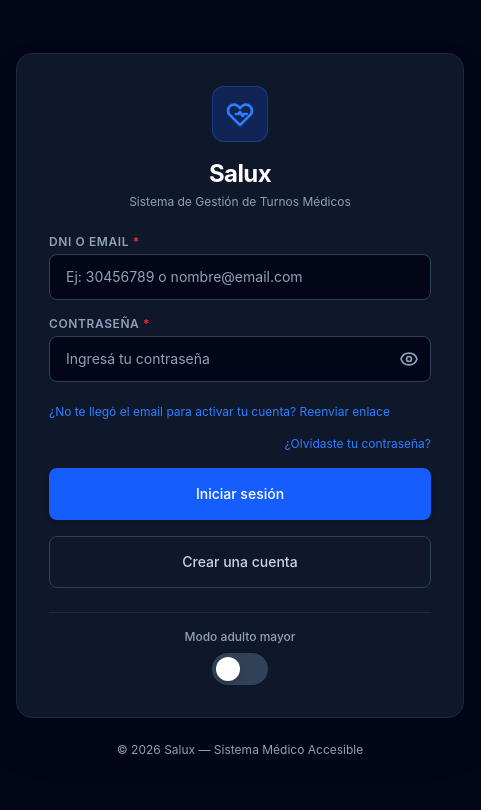
Test: login › con verificación activa permite reenviar el enlace, pidiendo antes el email
The image size is (481, 810).
expect the button "Iniciar sesión" is shown: met, box [49,468,431,520]
Step 1. Click the button "Reenviar enlace" → {"x": 219, "y": 412}, box [49,404,390,420]
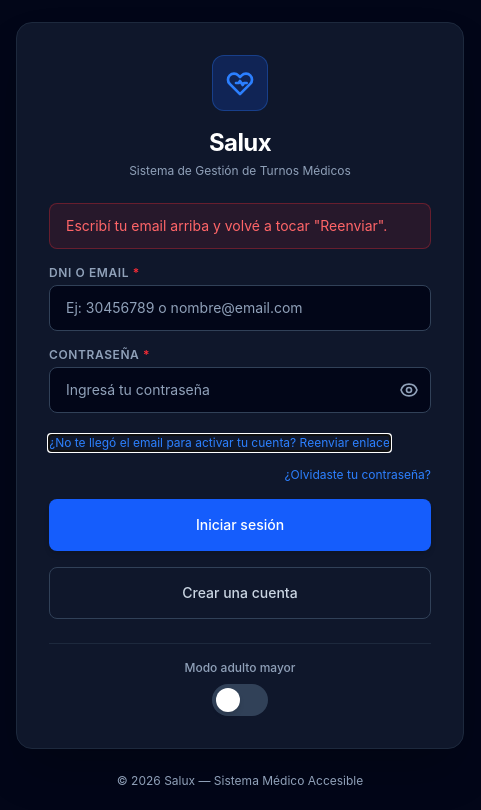
expect the text "Escribí tu email arriba y volvé a tocar \"Reenviar\"." is shown: met, box [49,202,431,248]
Step 2. Type "ana@correo.com" into the field with placeholder "Ej: 30456789 o nombre@email.com" → {"x": 240, "y": 308}, box [49,284,431,330]
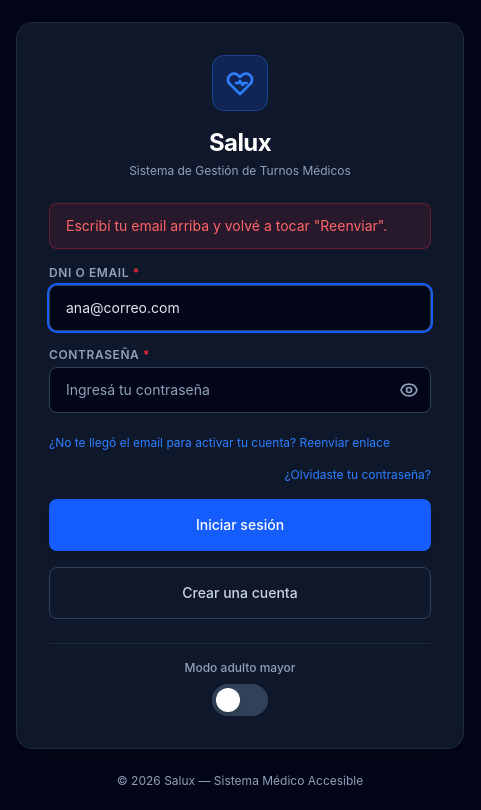
Step 3. Click the button "Reenviar enlace" → {"x": 219, "y": 442}, box [49,434,390,450]
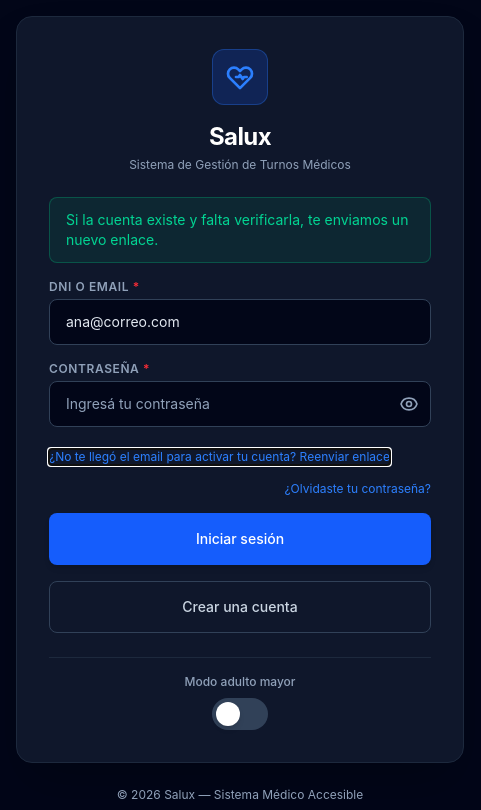
expect the text "Si la cuenta existe y falta verificarla, te enviamos un nuevo enlace." is shown: met, box [49,197,431,263]
